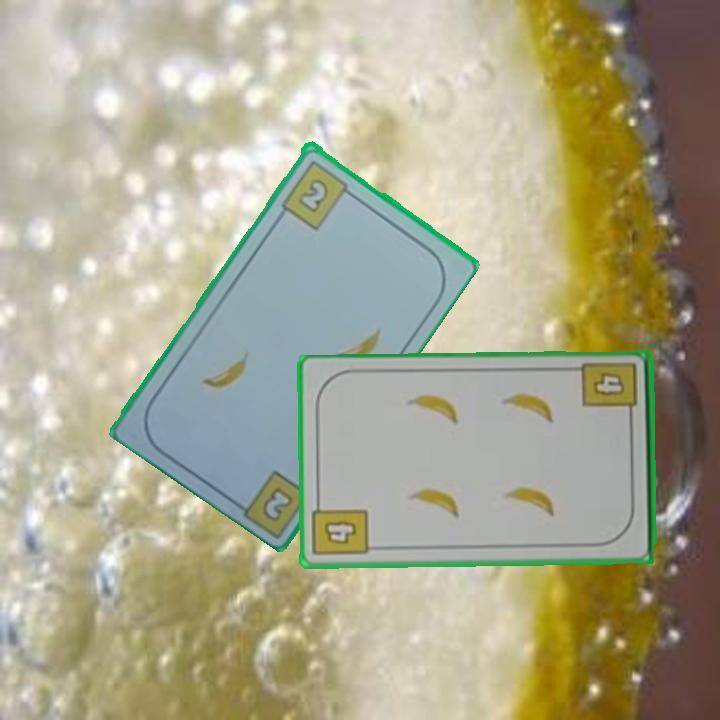2b: (278, 155, 357, 232), (258, 482, 297, 524)
4b: (579, 359, 641, 424), (309, 495, 371, 559)
